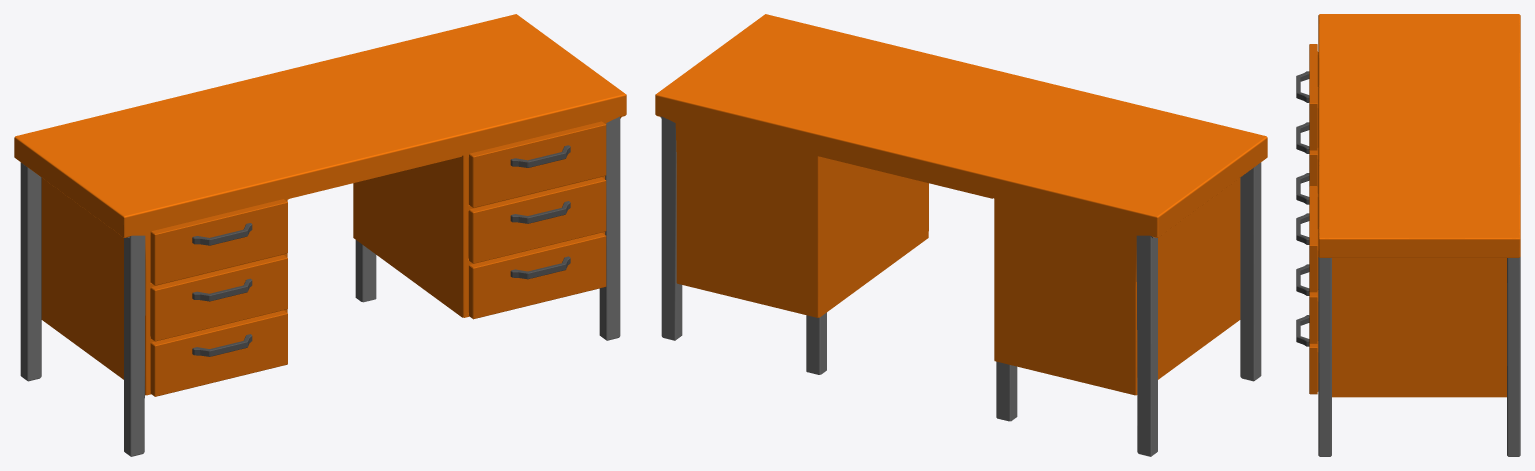
Rendered from mdl_Table.fbx.
The picture shows the model from 3 angles, left to right: view 1: azimuth 30°, elevation 25°; view 2: azimuth 150°, elevation 25°; view 3: azimuth 270°, elevation 25°; orthographic projection. The views are drawn at different scales.
Parts seen in each view (by area): view 1: Table, drawer L 1, drawer R 3, drawer L 3, drawer R 2, drawer L 2, drawer R 1; view 2: Table; view 3: Table, drawer L 1, drawer R 1, drawer R 3, drawer R 2, drawer L 2, drawer L 3.
Part boxes in pixels (x1,y1,x2,y2): Table: [14, 14, 626, 456]; drawer L 1: [150, 199, 287, 285]; drawer R 3: [469, 232, 606, 319]; drawer L 3: [150, 310, 287, 396]; drawer R 2: [469, 177, 606, 263]; drawer L 2: [150, 255, 287, 341]; drawer R 1: [469, 121, 606, 207]; Table: [655, 14, 1267, 456]; Table: [1318, 14, 1520, 456]; drawer L 1: [1296, 44, 1318, 150]; drawer R 1: [1296, 186, 1318, 292]; drawer R 3: [1296, 315, 1318, 394]; drawer R 2: [1296, 264, 1318, 343]; drawer L 2: [1296, 122, 1318, 193]; drawer L 3: [1296, 173, 1309, 204].
Size of the model in its own units: 133 by 61.17 by 56.
